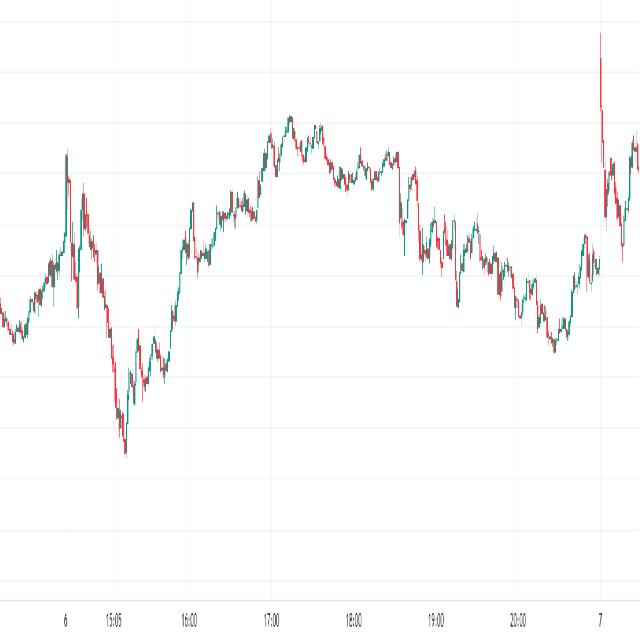Ascending-Triangle: (109, 323, 191, 502)
